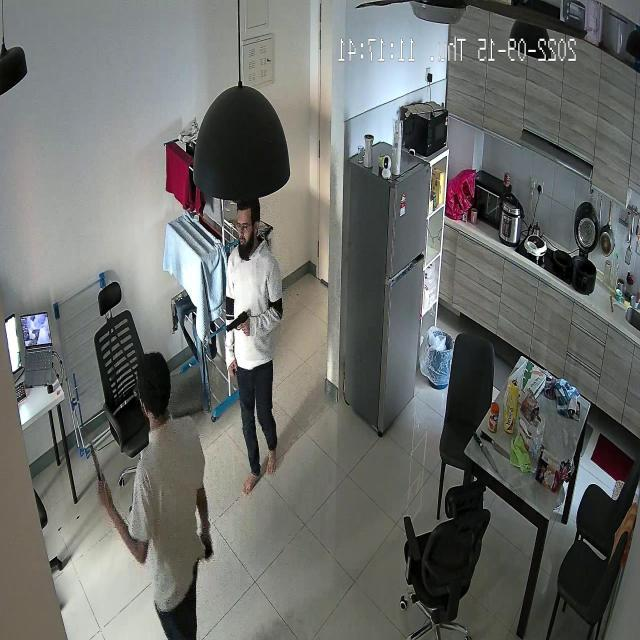Gun: (216, 298, 267, 347)
Knife: (80, 432, 111, 492)
